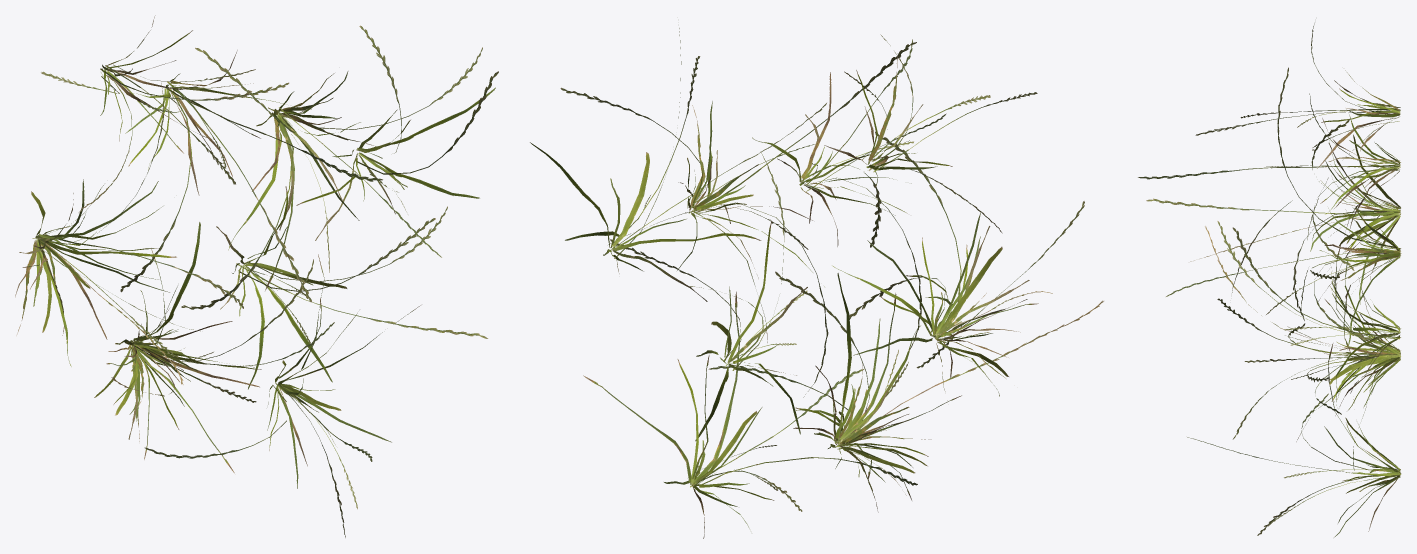
File: Tall_Grass_03_Var3_LOD0.fbx
The picture shows the model from 3 angles, left to right: view 1: azimuth 30°, elevation 25°; view 2: azimuth 150°, elevation 25°; view 3: azimuth 270°, elevation 25°; orthographic projection. The views are drawn at different scales.
Visible parts, largest first — view 1: Var3_LOD0; view 2: Var3_LOD0; view 3: Var3_LOD0.
Boxes of the visible parts, box(x1,y1,x2,y2) form: Var3_LOD0: box(15, 15, 498, 537); Var3_LOD0: box(530, 28, 1103, 538); Var3_LOD0: box(1138, 23, 1401, 537).
Size of the model in its own units: 98.65 by 101 by 56.81.
